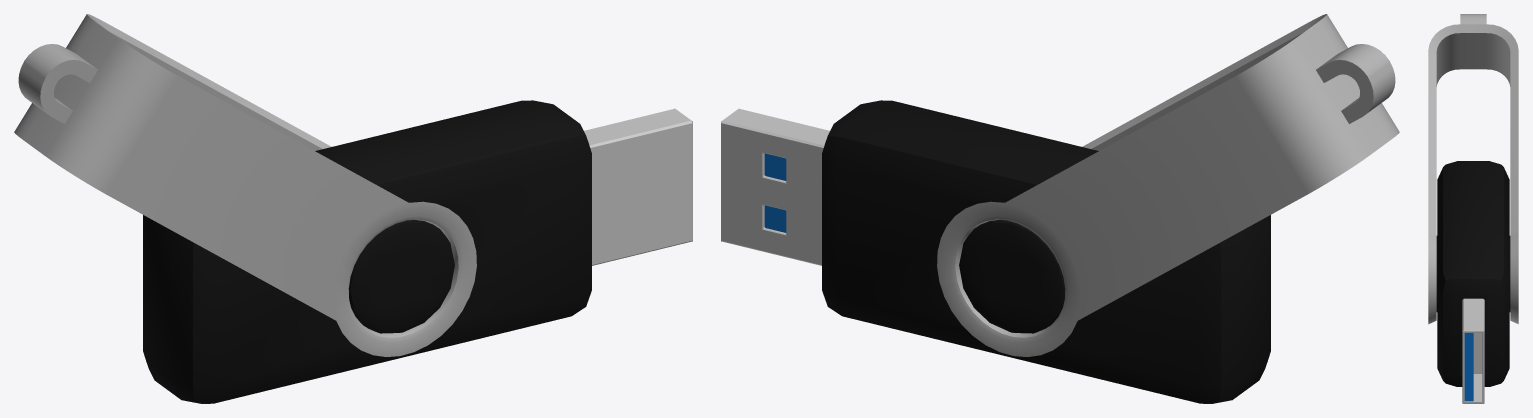
The model's file is usb-flash-drive-open.glb.
3 views of the same model, side by side, from view 1: azimuth 30°, elevation 25°; view 2: azimuth 150°, elevation 25°; view 3: azimuth 270°, elevation 25° (orthographic). The views are drawn at different scales.
Parts seen in each view (by area): view 1: Object_88, Object_91, Object_89; view 2: Object_88, Object_91, Object_89; view 3: Object_88, Object_91, Object_89.
Boxes of the visible parts, x1,y1,x2,y2 form: Object_88: (143,100,591,403); Object_91: (14,14,476,356); Object_89: (584,108,692,265); Object_88: (764,100,1270,403); Object_91: (937,14,1399,356); Object_89: (721,108,829,265); Object_88: (1436,161,1510,401); Object_91: (1428,14,1518,324); Object_89: (1462,298,1484,403).
Size of the model in its own units: 0.1455 by 0.0816 by 0.0288.
Materials: 2 (2 with a texture image).
